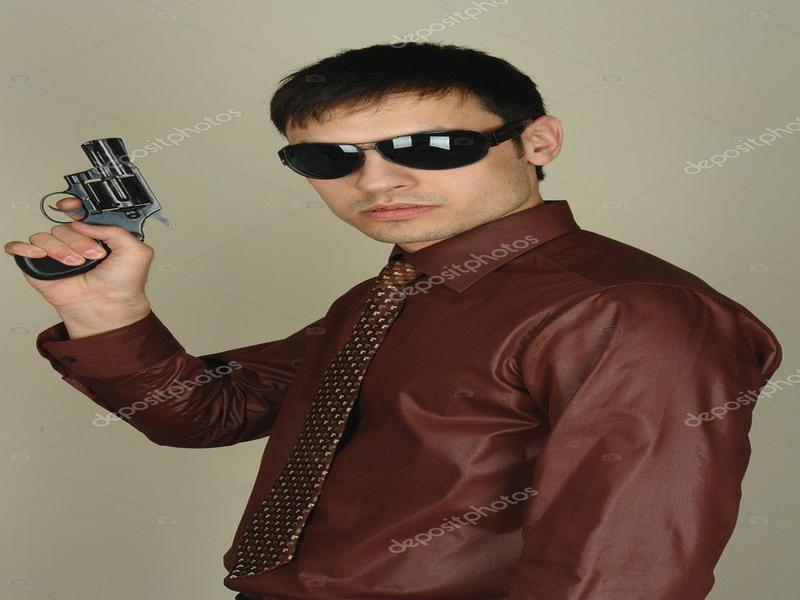Revolver: (37, 124, 174, 274)
